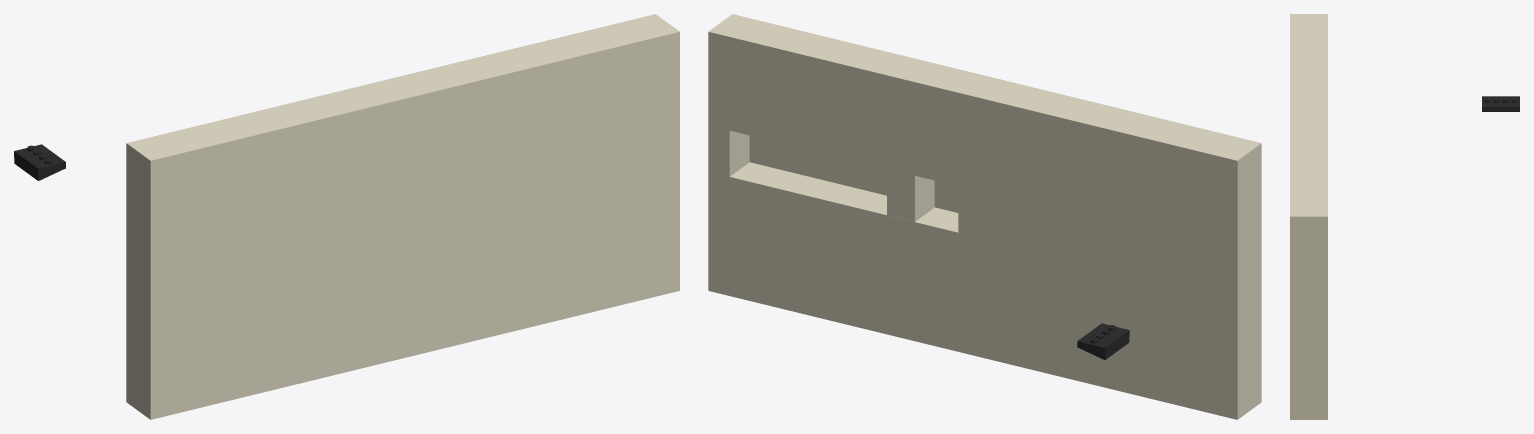
File: wallllllllllllllllllllllllll.fbx
3 views of the same model, side by side, from view 1: azimuth 30°, elevation 25°; view 2: azimuth 150°, elevation 25°; view 3: azimuth 270°, elevation 25° (orthographic). The views are drawn at different scales.
Parts seen in each view (by area): view 1: wall_B2, polySurface6; view 2: wall_B2, polySurface6; view 3: wall_B2, polySurface6.
Part boxes in pixels (box(x1,y1,x2,y2)): wall_B2: box(126, 14, 679, 419); polySurface6: box(14, 144, 65, 180); wall_B2: box(708, 14, 1261, 419); polySurface6: box(1077, 323, 1129, 359); wall_B2: box(1290, 14, 1327, 419); polySurface6: box(1482, 96, 1519, 111).
Size of the model in its own units: 51.35 by 24.02 by 24.62.
